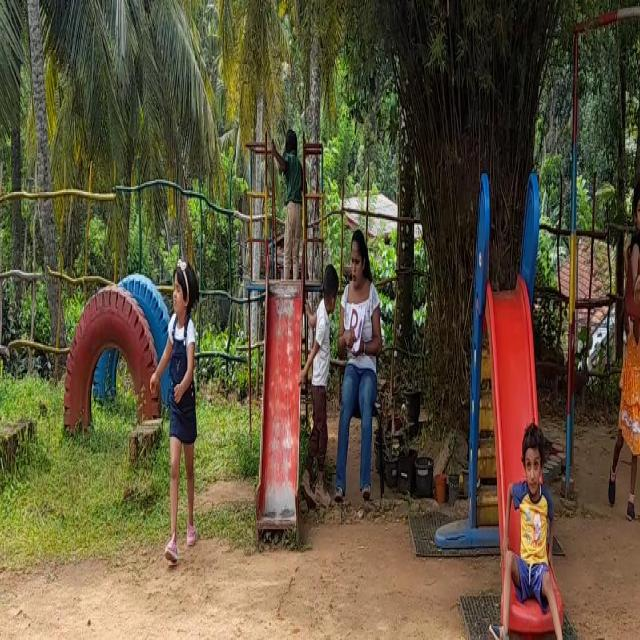adult: (339, 224, 388, 500)
child: (498, 421, 566, 640), (156, 248, 199, 560), (306, 242, 338, 521), (276, 118, 302, 277), (624, 167, 640, 334)
